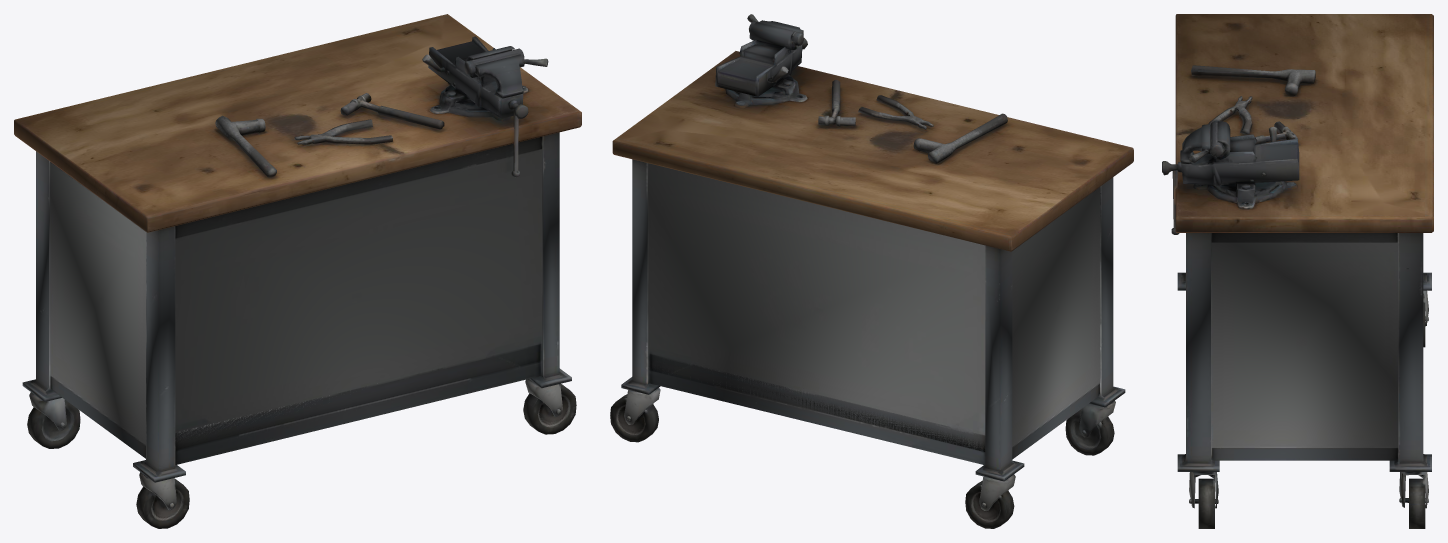
File: asset_pack_item_glb-vd74sdj4ynbc52j4f7q2vf80hs8at9jd-3-ks75d8gtbp23cc4qdmpqgvd4rn8avgdy.glb
The picture shows the model from 3 angles, left to right: view 1: azimuth 30°, elevation 25°; view 2: azimuth 150°, elevation 25°; view 3: azimuth 270°, elevation 25°; orthographic projection. The views are drawn at different scales.
Parts seen in each view (by area): view 1: Workbench with tools; view 2: Workbench with tools; view 3: Workbench with tools.
Part boxes in pixels (x1,y1,x2,y2): Workbench with tools: (14,14,581,528); Workbench with tools: (610,14,1133,528); Workbench with tools: (1162,14,1433,528).
Size of the model in its own units: 0.998 by 0.834 by 0.5527.
1 material, 1 textured.
